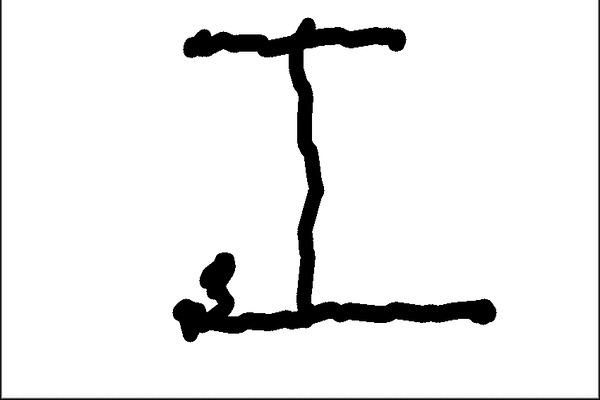i: (159, 13, 497, 334)
